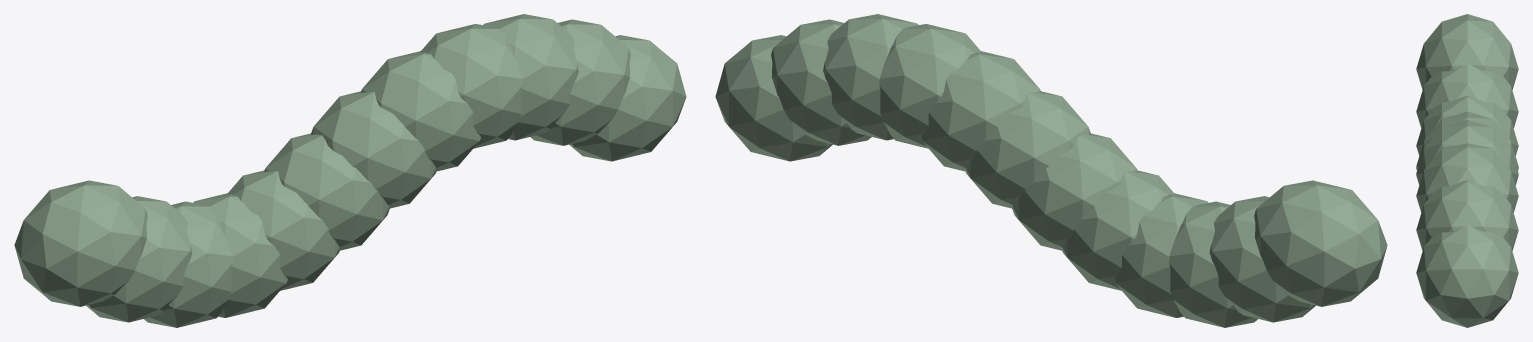
Rendered from snake.glb.
3 views of the same model, side by side, from view 1: azimuth 30°, elevation 25°; view 2: azimuth 150°, elevation 25°; view 3: azimuth 270°, elevation 25° (orthographic). The views are drawn at different scales.
Visible parts, largest first — view 1: world; view 2: world; view 3: world.
Boxes of the visible parts, x1,y1,x2,y2 form: world: (14,14,686,327); world: (715,14,1387,327); world: (1416,14,1518,327).
Bounding box in the file's own units: 2.48 × 0.8114 × 0.4.
